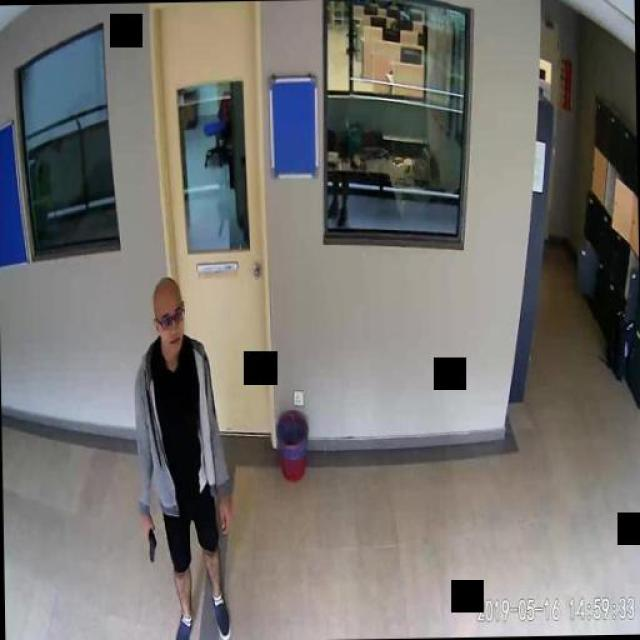gun: (144, 522, 156, 562)
